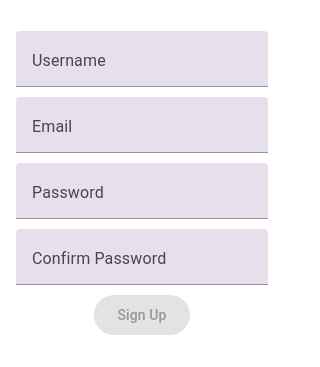
SignUp form › server errors › removes errors after a failed submission followed by a successful submission
This screenshot has width=320, height=367.
Type "testUser" into the field named "Username".
click(142, 59); type("testUser")  # box [16, 31, 268, 87]
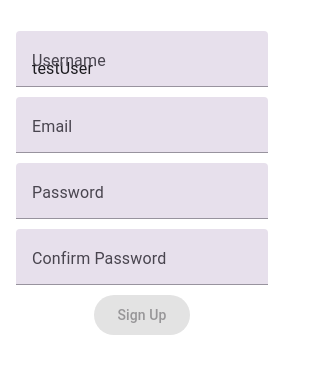
Type "test@test.com" into the field named "Email".
click(142, 125); type("test@test.com")  # box [16, 97, 268, 153]
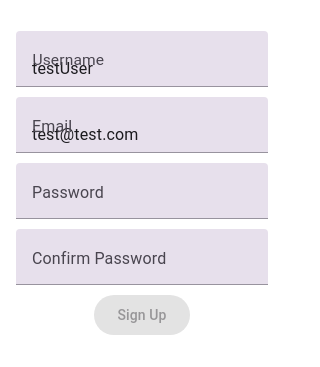
Type "password123" into the password field named "Password".
click(142, 191); type("password123")  # box [16, 163, 268, 219]
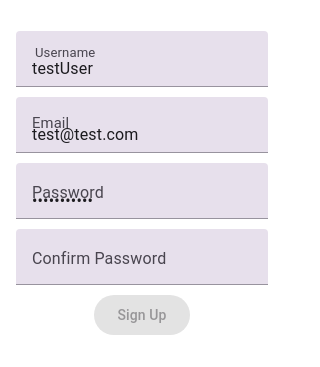
Type "password123" into the password field named "Confirm Password".
click(142, 257); type("password123")  # box [16, 229, 268, 285]
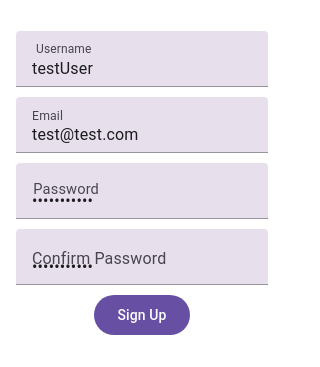
Click the button "Sign Up".
click(142, 315)  # box [94, 295, 190, 335]
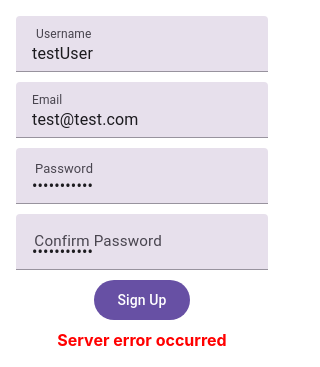
Now the text "Server error occurred" is shown, box [57, 330, 227, 350]
Click the button "Sign Up".
click(142, 300)  # box [94, 280, 190, 320]
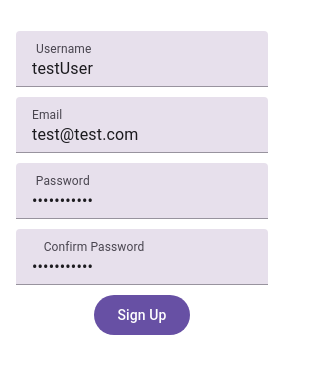
Now the text "Server error occurred" is gone
